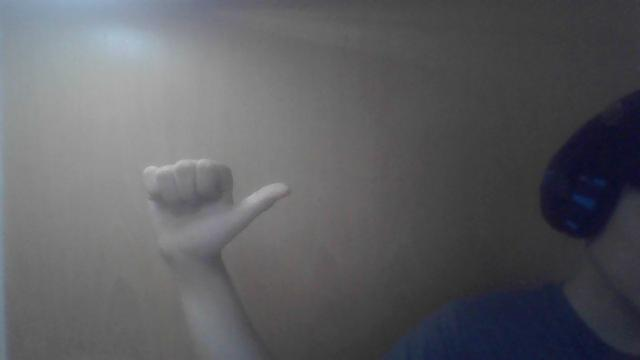left: (135, 150, 295, 270)
